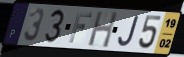3: (42, 7, 66, 45), (23, 7, 44, 44)
5: (138, 15, 163, 51)
F: (67, 11, 94, 45)
H: (86, 10, 119, 49)
J: (117, 14, 141, 48)
